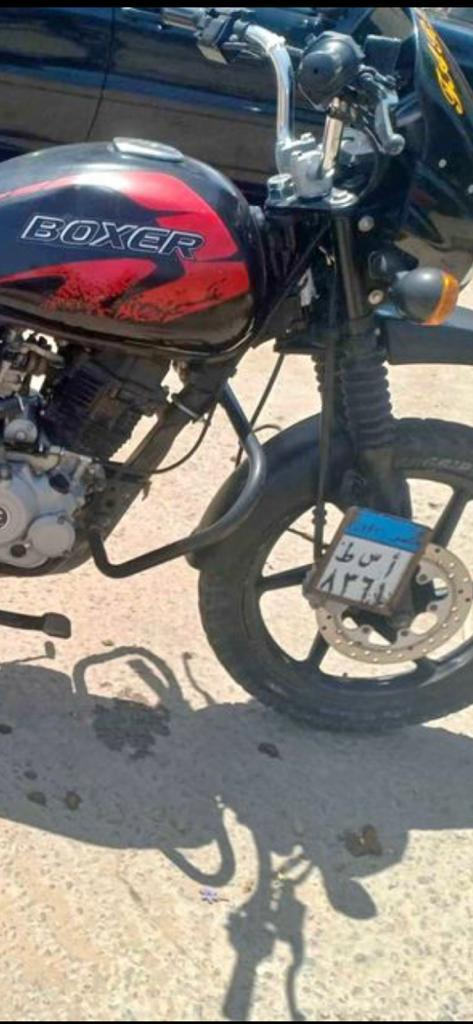License Plate: (323, 507, 425, 608)
